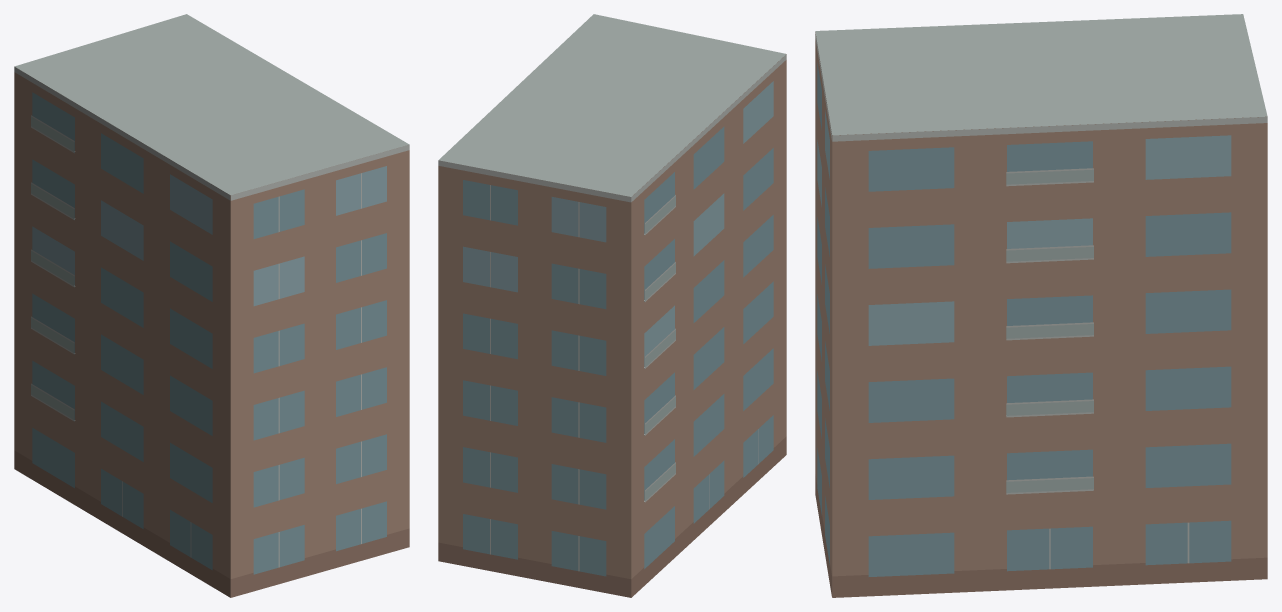
Rendered from survey-upis-32933522.glb.
3 renders of one model, left to right at view 1: azimuth 30°, elevation 25°; view 2: azimuth 150°, elevation 25°; view 3: azimuth 270°, elevation 25°, orthographic. The views are drawn at different scales.
Visible parts, largest first — view 1: survey-upis-32933522.tmp; view 2: survey-upis-32933522.tmp; view 3: survey-upis-32933522.tmp.
Boxes of the visible parts, x1,y1,x2,y2 form: survey-upis-32933522.tmp: (14, 14, 409, 597); survey-upis-32933522.tmp: (438, 14, 786, 597); survey-upis-32933522.tmp: (815, 14, 1267, 597).
Bounding box in the file's own units: 10.09 × 17.9 × 15.88.
